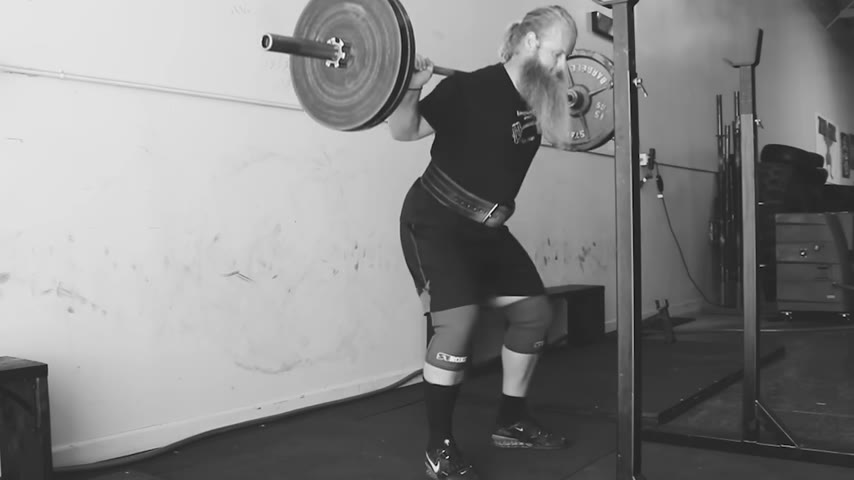barbell_plate_side: (256, 0, 367, 140), (536, 10, 622, 158)
